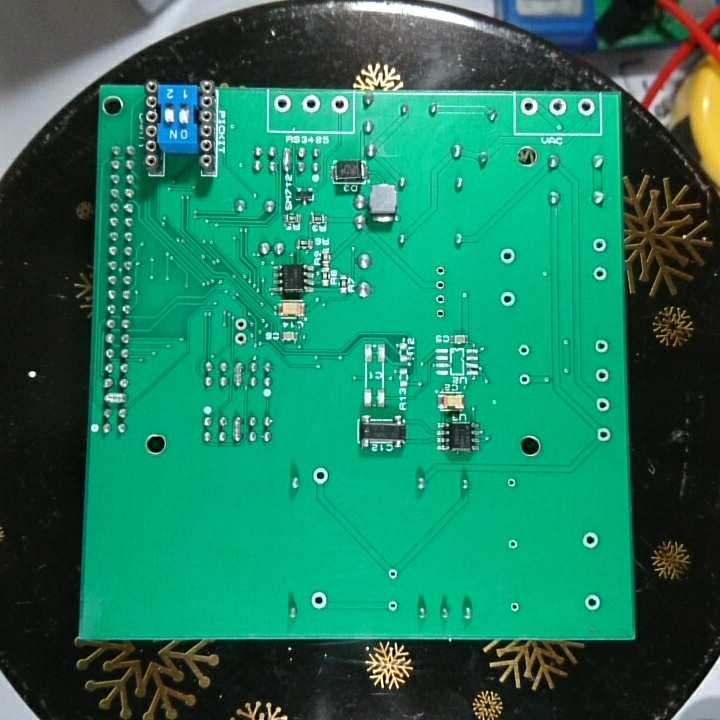F: (310, 464, 334, 490), (547, 95, 570, 122), (576, 97, 599, 123), (496, 245, 520, 269), (308, 589, 332, 613), (498, 286, 521, 311), (579, 529, 602, 554), (587, 235, 613, 257), (329, 94, 350, 120), (301, 92, 321, 119), (590, 262, 609, 290), (271, 93, 295, 115), (519, 95, 541, 119), (581, 592, 603, 616), (593, 426, 614, 447), (593, 394, 614, 414), (591, 337, 612, 356), (592, 366, 614, 384), (231, 314, 252, 332), (229, 330, 250, 348), (385, 565, 403, 582), (432, 303, 449, 320), (507, 598, 523, 615), (505, 476, 521, 493), (517, 370, 533, 387), (507, 535, 523, 551), (384, 598, 400, 614), (433, 277, 448, 292), (433, 290, 447, 306), (516, 339, 527, 357), (434, 264, 447, 278)
P: (279, 144, 294, 178), (231, 358, 246, 389), (101, 391, 127, 407), (231, 414, 244, 445)
